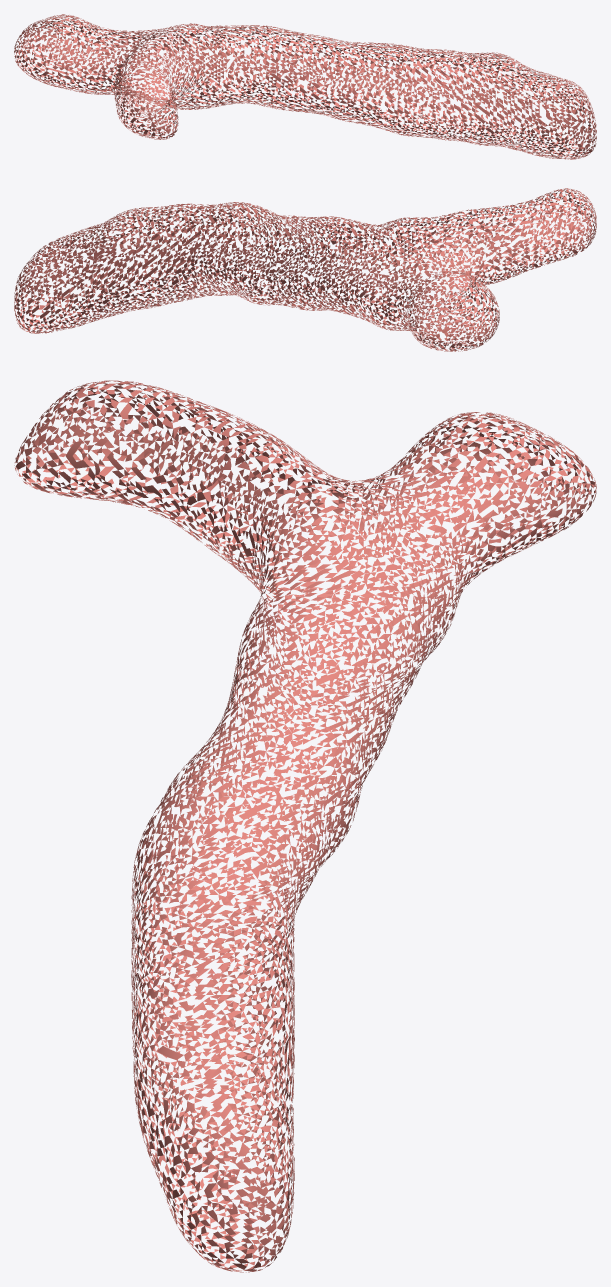
Rendered from morph_001.glb.
3 views of the same model, one above another, from view 1: azimuth 30°, elevation 25°; view 2: azimuth 150°, elevation 25°; view 3: azimuth 270°, elevation 25° (orthographic). The views are drawn at different scales.
Bounding box in the file's own units: 106 × 43.63 × 52.71.
